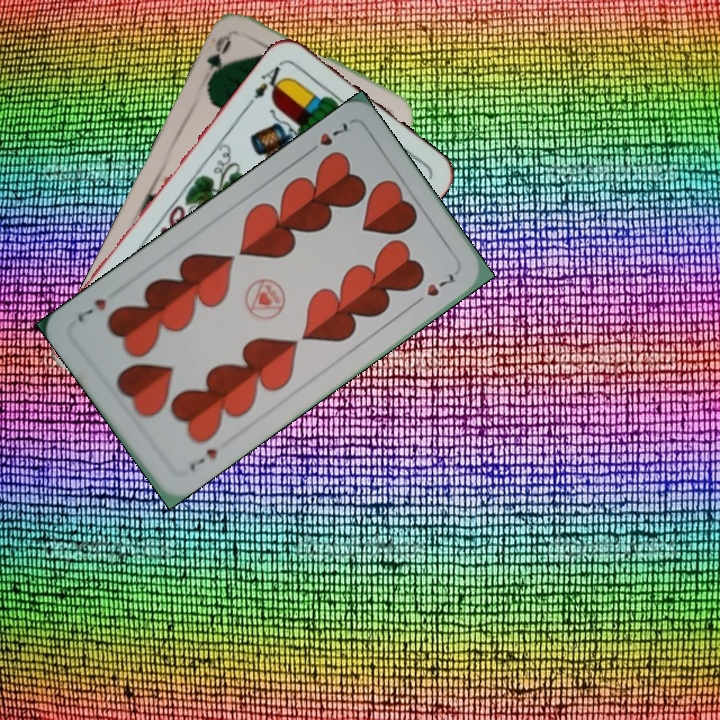EA: (244, 57, 290, 108)
GO: (202, 31, 234, 89)
H7: (302, 118, 351, 158), (185, 444, 220, 474)
